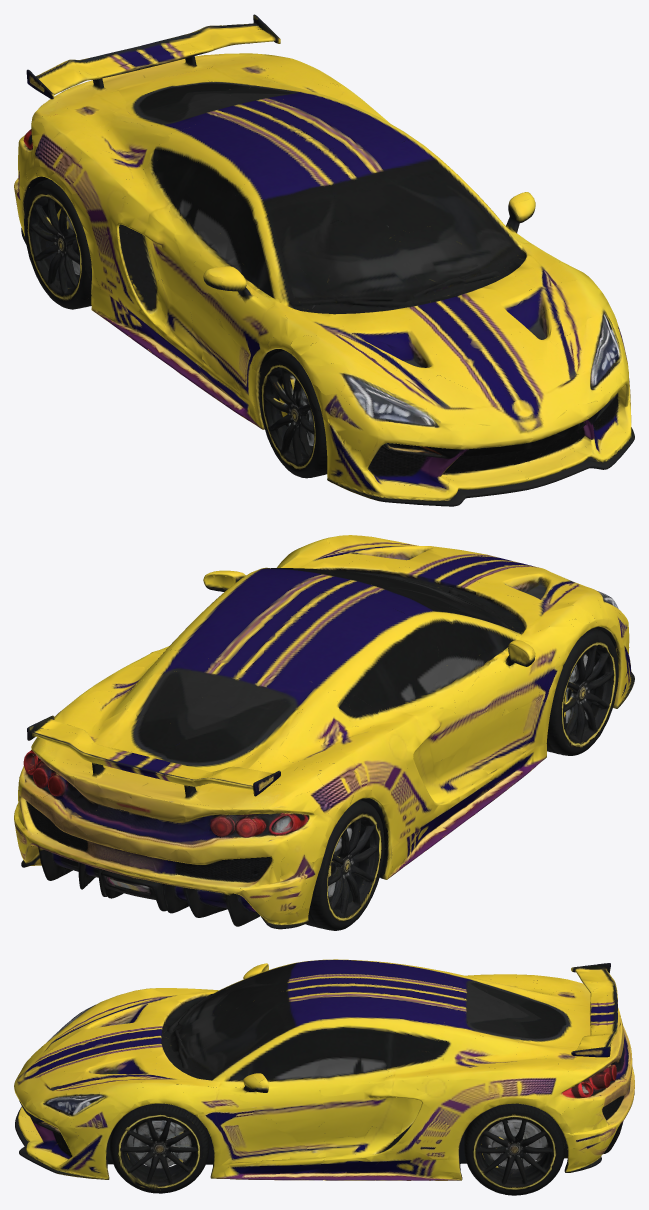
Rendered from venom-rs.glb.
3 renders of one model, top to bottom at view 1: azimuth 30°, elevation 25°; view 2: azimuth 150°, elevation 25°; view 3: azimuth 270°, elevation 25°, orthographic. The views are drawn at different scales.
Parts seen in each view (by area): view 1: venom-rs; view 2: venom-rs; view 3: venom-rs.
Boxes of the visible parts, <box> form: venom-rs: <box>14,14,634,506</box>; venom-rs: <box>14,535,634,930</box>; venom-rs: <box>14,959,634,1195</box>.
Bounding box in the file's own units: 2.13 × 1.29 × 4.6.
1 material, 1 textured.
